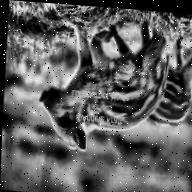boar: (35, 8, 161, 165), (144, 42, 192, 132)
